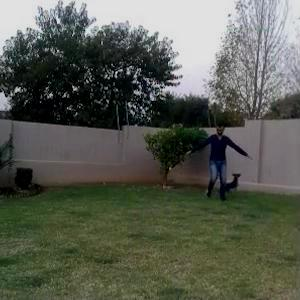land: (174, 118, 247, 205)
